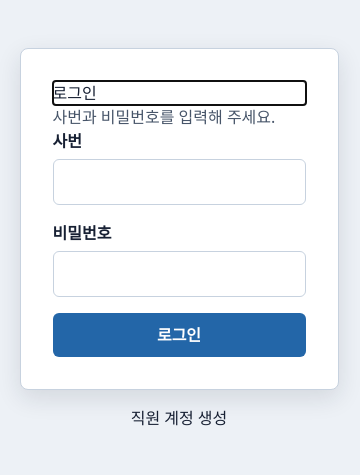
LoginPage › shows validation feedback and moves focus to the first invalid field
This screenshot has width=360, height=475.
Click the button "로그인" at (179, 335), box [52,313,306,357]
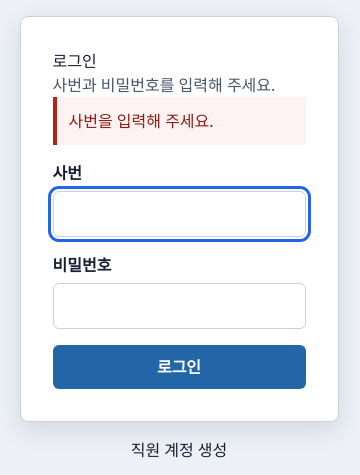
Expected: the message reads "사번을 입력해 주세요.", [68,110,214,132]
